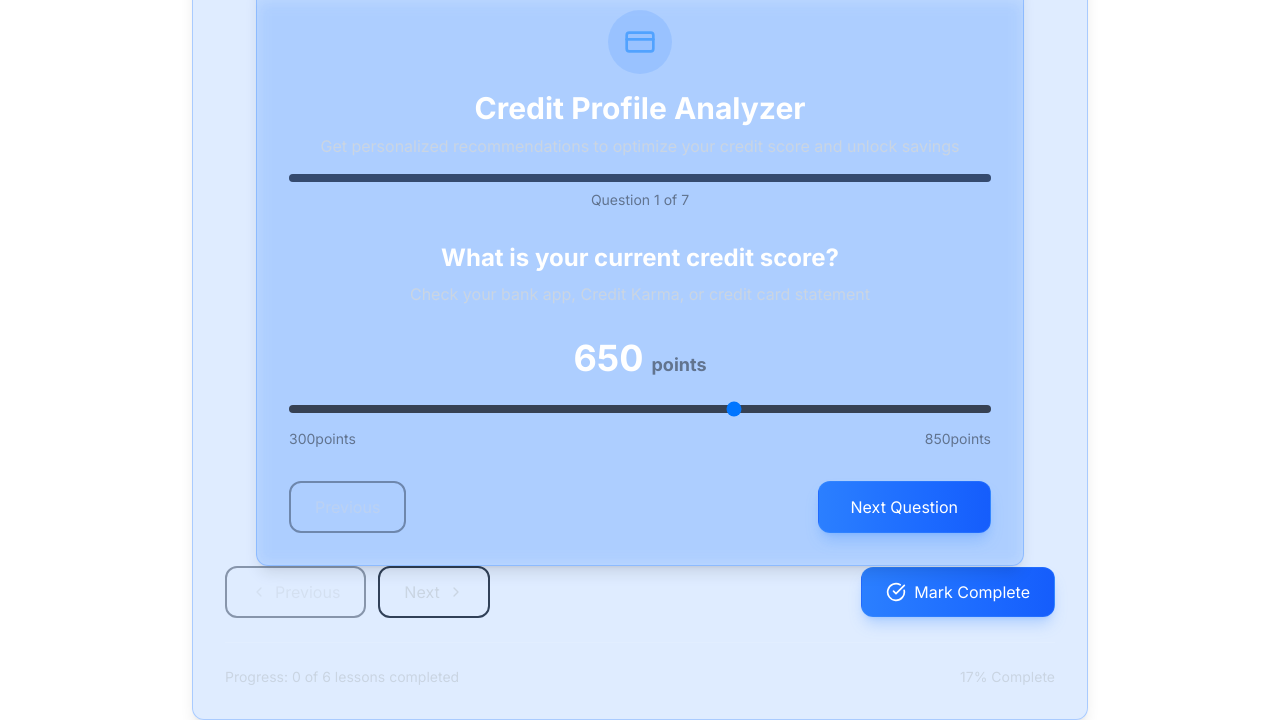
it: CreditDebtLessonEnhanced › explains credit utilization
This screenshot has width=1280, height=720.
(page scrolled)
What coordinates should you click on to do the following:
click the button "Next"
I would click on:
 (434, 592)
Its box is x1=378 y1=566 x2=490 y2=618.
(page scrolled)
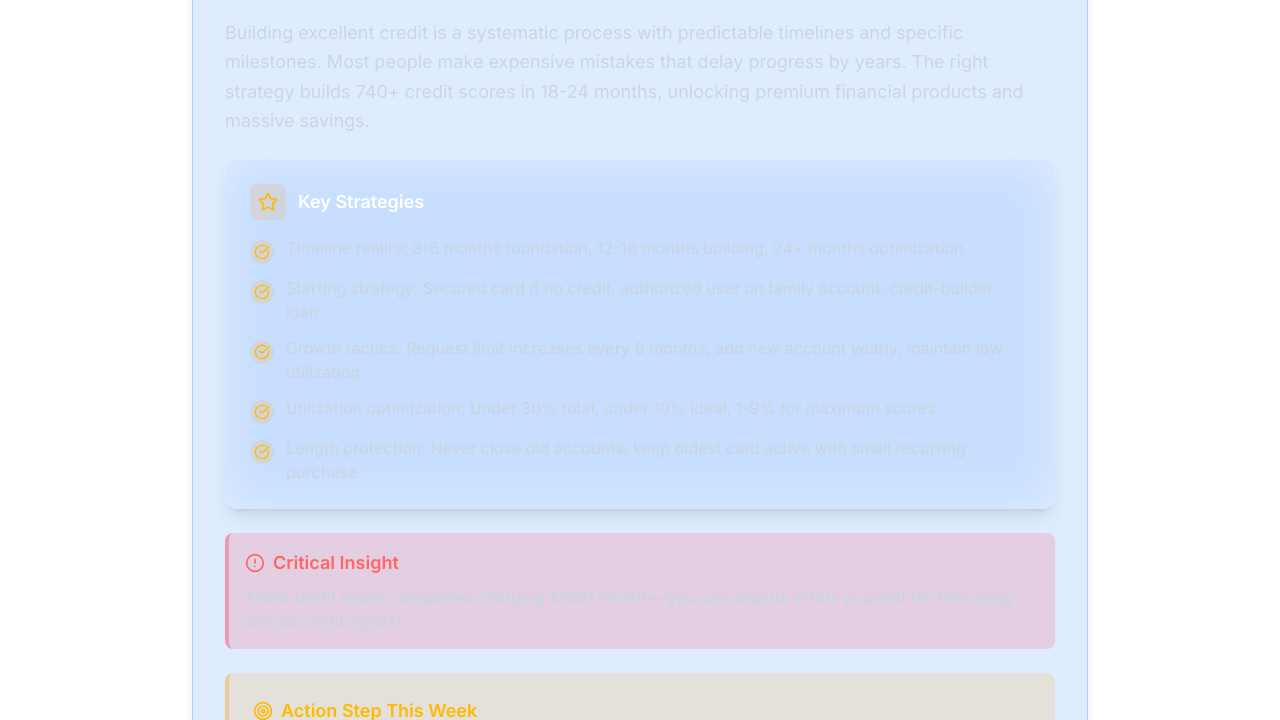
Now the text "utilization" is shown, box x1=286 y1=338 x2=1002 y2=382
